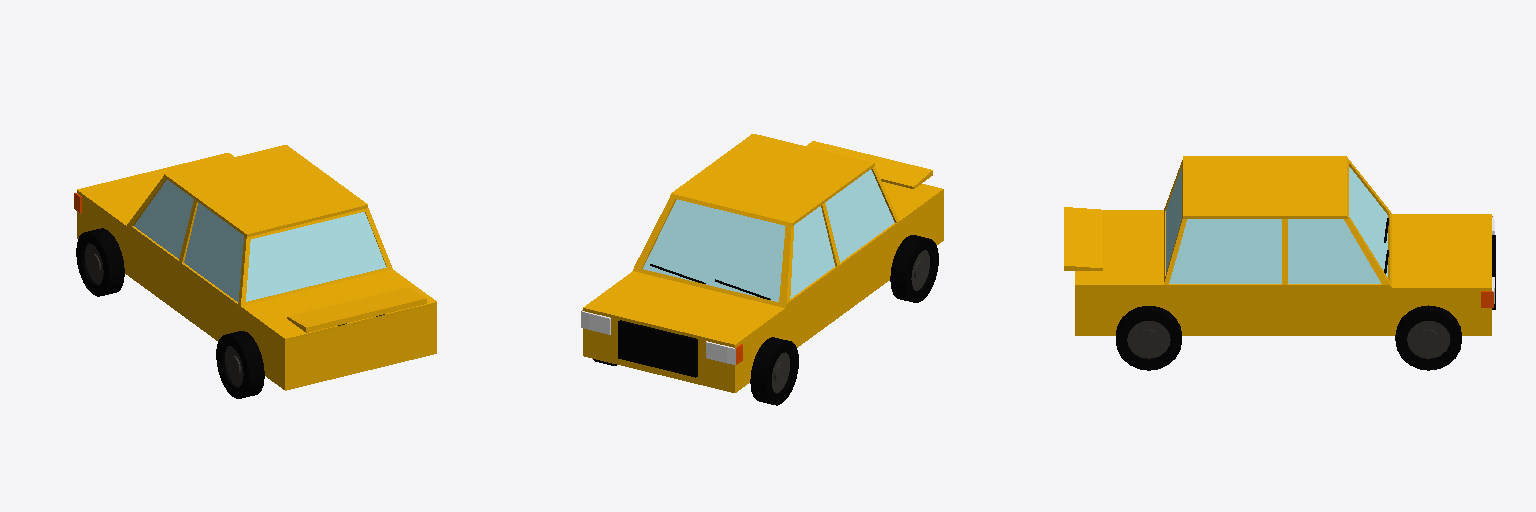
File: Muscle_Yellow.obj
3 views of the same model, side by side, from view 1: azimuth 30°, elevation 25°; view 2: azimuth 150°, elevation 25°; view 3: azimuth 270°, elevation 25° (orthographic).
Visible parts, largest first — view 1: Muscle_Yellow; view 2: Muscle_Yellow; view 3: Muscle_Yellow.
Boxes of the visible parts, box(x1,y1,x2,y2) form: Muscle_Yellow: box(74, 145, 436, 398); Muscle_Yellow: box(581, 134, 943, 405); Muscle_Yellow: box(1064, 156, 1495, 370).
Bounding box in the file's own units: 172 × 132 × 362.